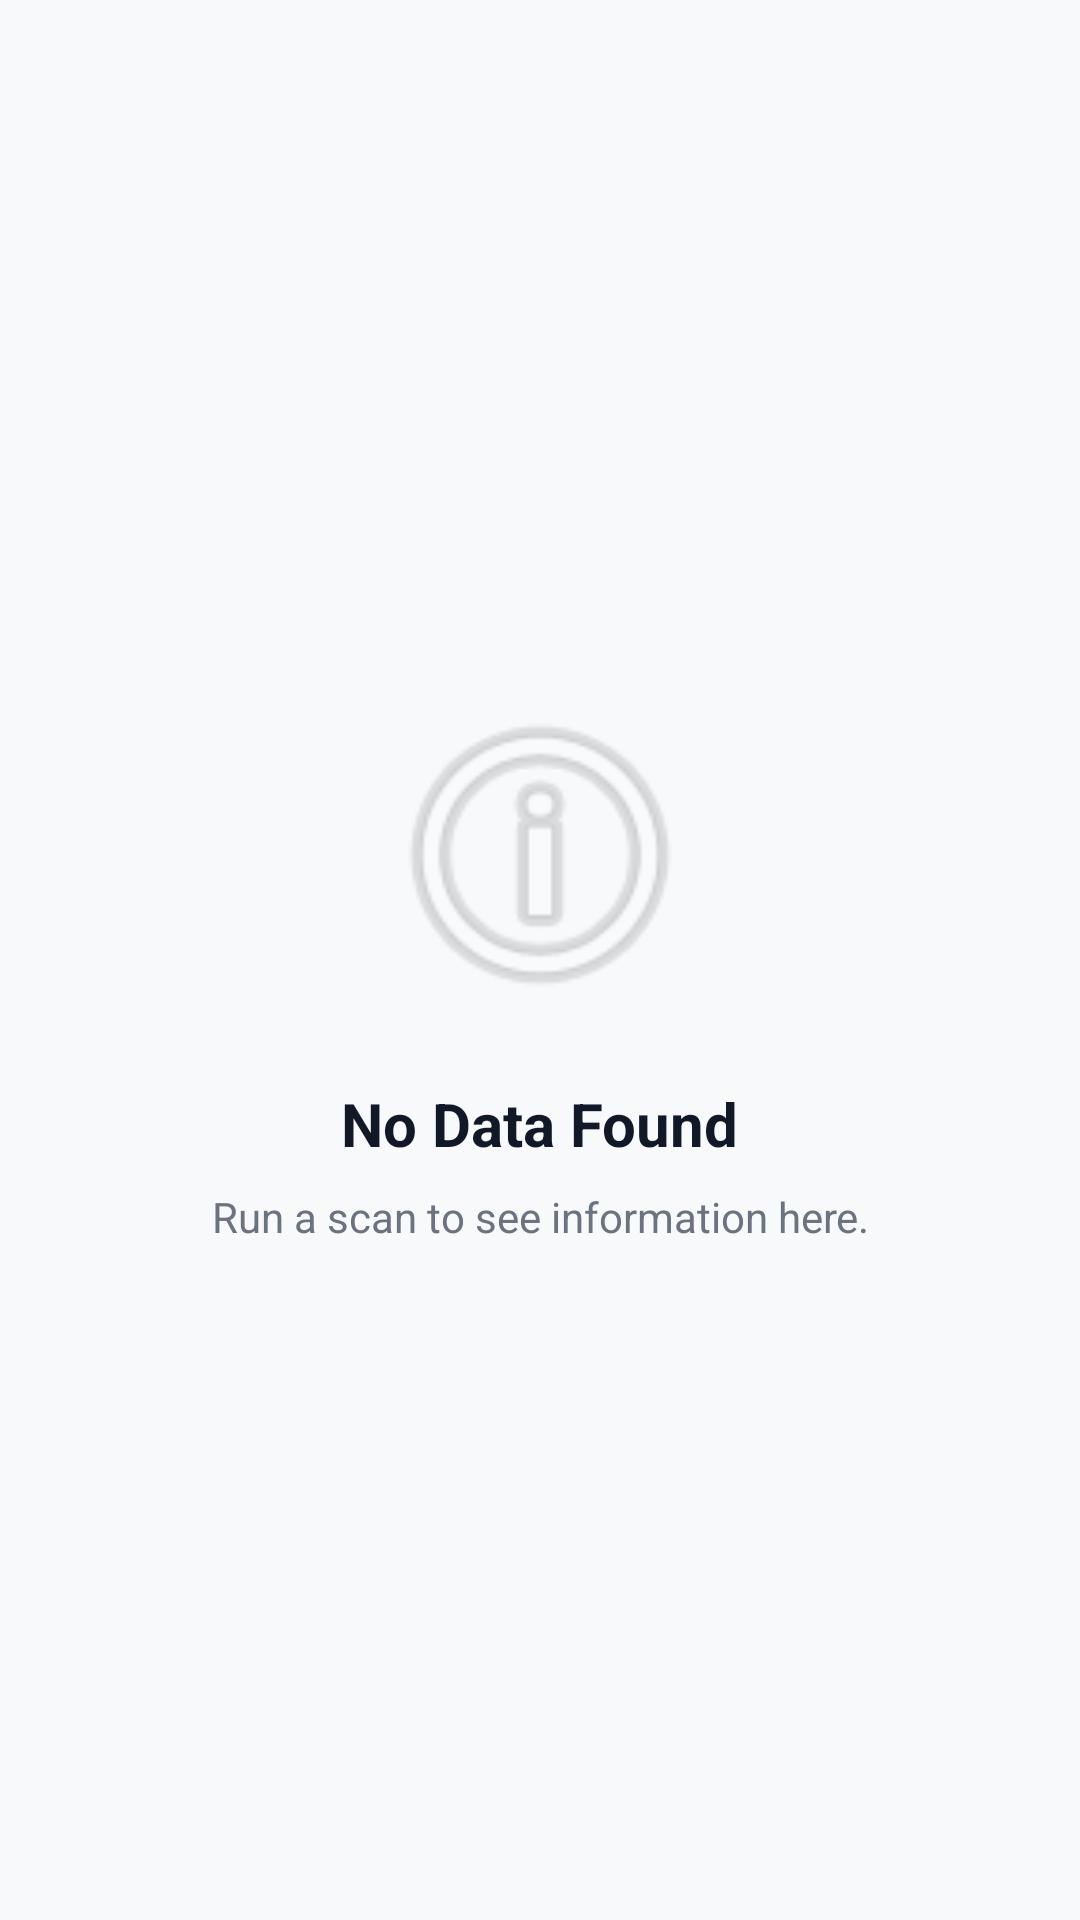

Icon bounding boxes for this 1080*1920 phone screenshot, format bbox=[x1, y1, x2, y2]:
info details: bbox=[413, 728, 667, 982]
